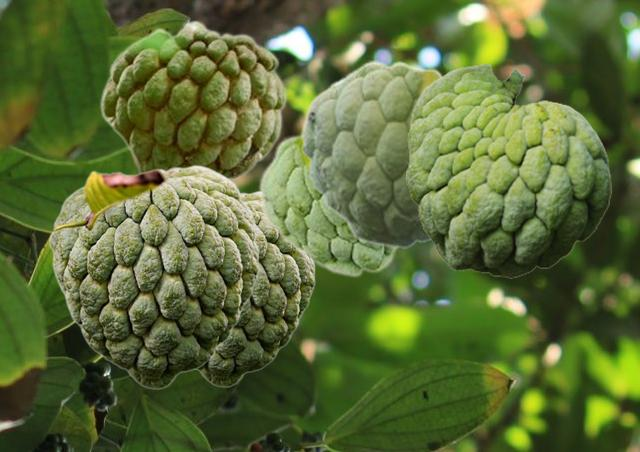atis: (48, 164, 258, 388), (406, 63, 610, 277), (98, 19, 286, 182), (300, 60, 445, 247), (196, 191, 314, 386), (257, 131, 400, 277)
